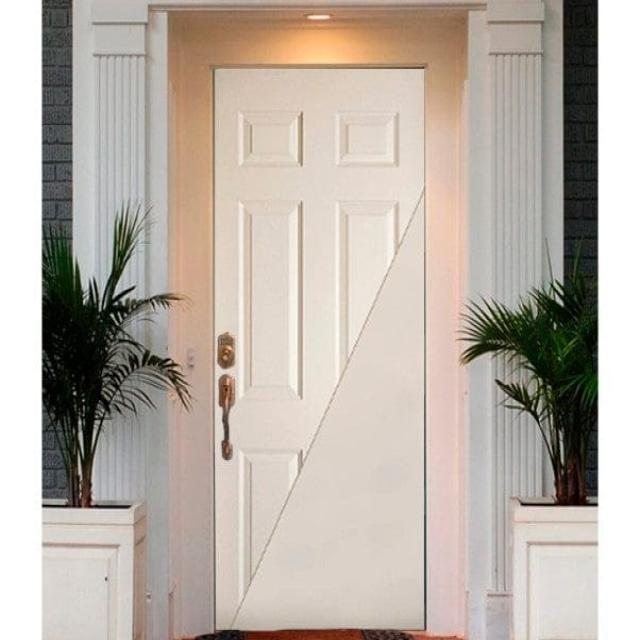door: (212, 65, 427, 631)
